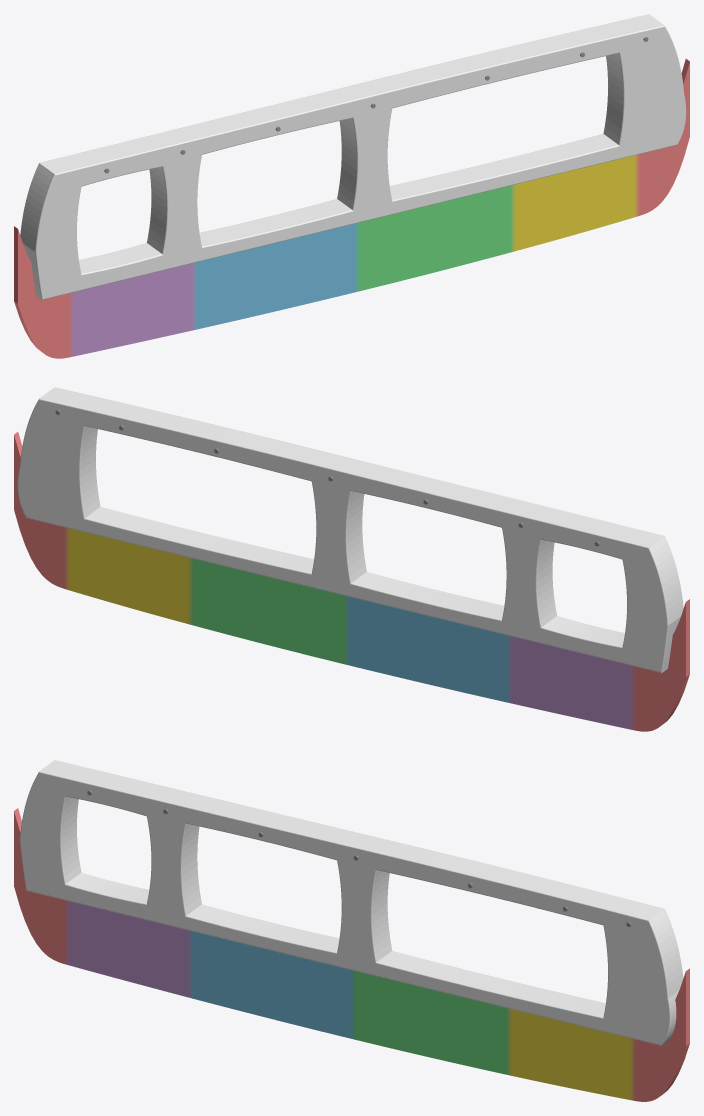
File: blade-holder-cad.glb
The picture shows the model from 3 angles, top to bottom: view 1: azimuth 30°, elevation 25°; view 2: azimuth 150°, elevation 25°; view 3: azimuth 330°, elevation 25°; orthographic projection.
Bounding box in the file's own units: 0.28 × 0.079 × 0.013.
